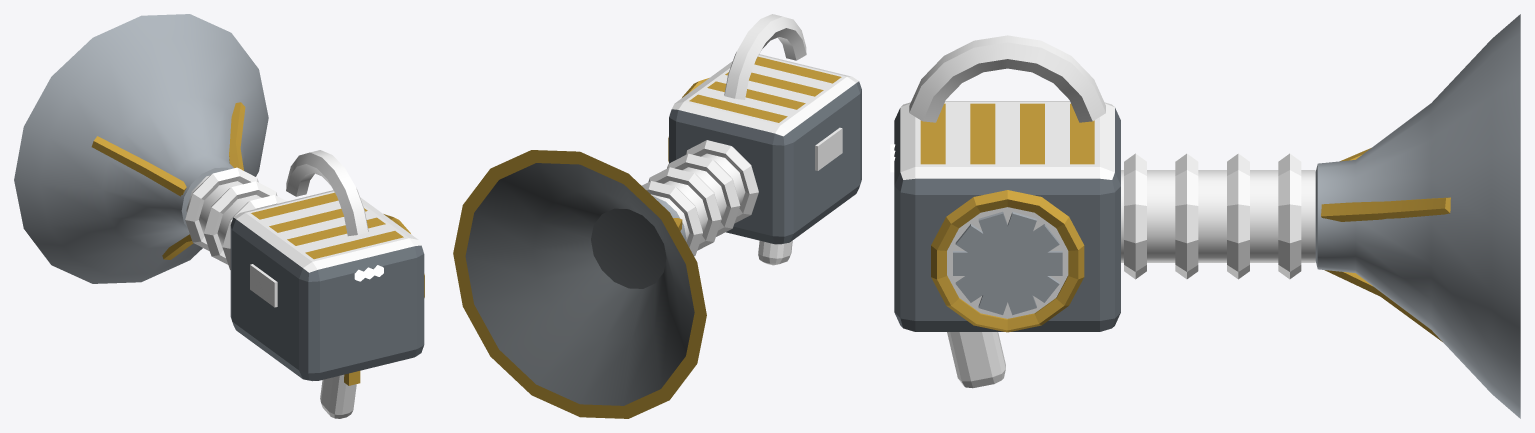
The model's file is compressor.glb.
3 renders of one model, left to right at view 1: azimuth 30°, elevation 25°; view 2: azimuth 150°, elevation 25°; view 3: azimuth 270°, elevation 25°, orthographic. The views are drawn at different scales.
Visible parts, largest first — view 1: Compressor; view 2: Compressor; view 3: Compressor.
Boxes of the visible parts, box(x1,y1,x2,y2) form: Compressor: box(14, 14, 424, 418); Compressor: box(453, 14, 861, 418); Compressor: box(890, 14, 1520, 418).
Bounding box in the file's own units: 0.536 × 0.536 × 0.833.
